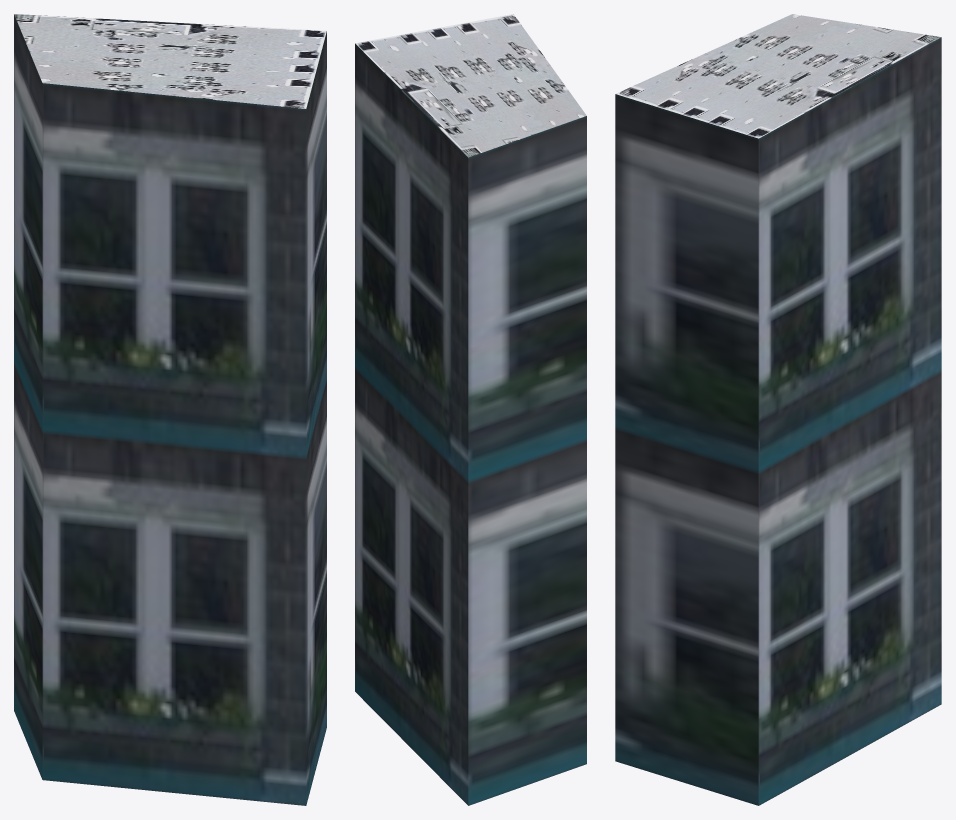
Rendered from ResTex__4998.fbx.
3 views of the same model, side by side, from view 1: azimuth 30°, elevation 25°; view 2: azimuth 150°, elevation 25°; view 3: azimuth 270°, elevation 25° (orthographic). The views are drawn at different scales.
Visible parts, largest first — view 1: CityEngineMaterial_11_m, CityEngineMaterial_4_m; view 2: CityEngineMaterial_11_m, CityEngineMaterial_4_m; view 3: CityEngineMaterial_11_m, CityEngineMaterial_4_m.
Part boxes in pixels (x1,y1,x2,y2): CityEngineMaterial_11_m: [14, 14, 326, 805]; CityEngineMaterial_4_m: [14, 14, 326, 108]; CityEngineMaterial_11_m: [355, 43, 586, 805]; CityEngineMaterial_4_m: [355, 14, 586, 157]; CityEngineMaterial_11_m: [615, 37, 941, 805]; CityEngineMaterial_4_m: [616, 14, 941, 138].
Size of the model in its own units: 2.4 by 6 by 2.66.
2 materials, 2 textured.
